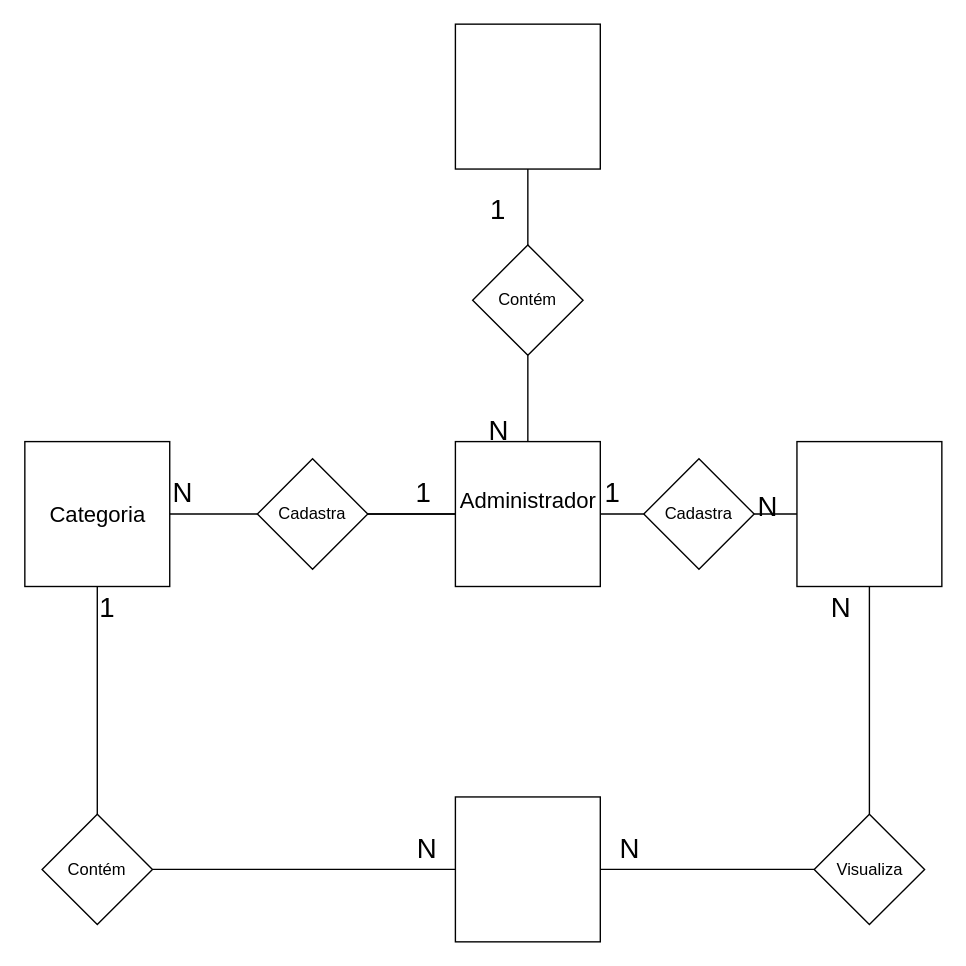
Some shapes in this 966 by 966 pixel diagram are drawn without their labels. The shapes that lost their labels are listed below. From the top down, each one's centre as x and y in pixels, then its label:
the point at 527,96: OpFlix
the point at 869,513: Usuário (Administrador ou cliente)
the point at 527,869: Série/Filme
